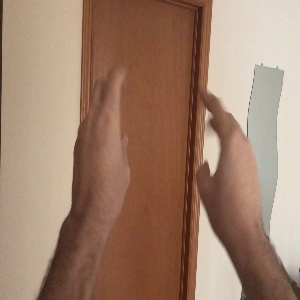hand: (195, 88, 261, 229), (74, 65, 130, 221)
